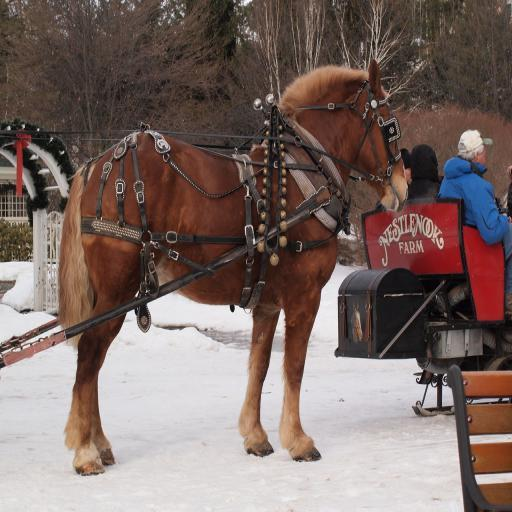Horse: (60, 57, 408, 474)
